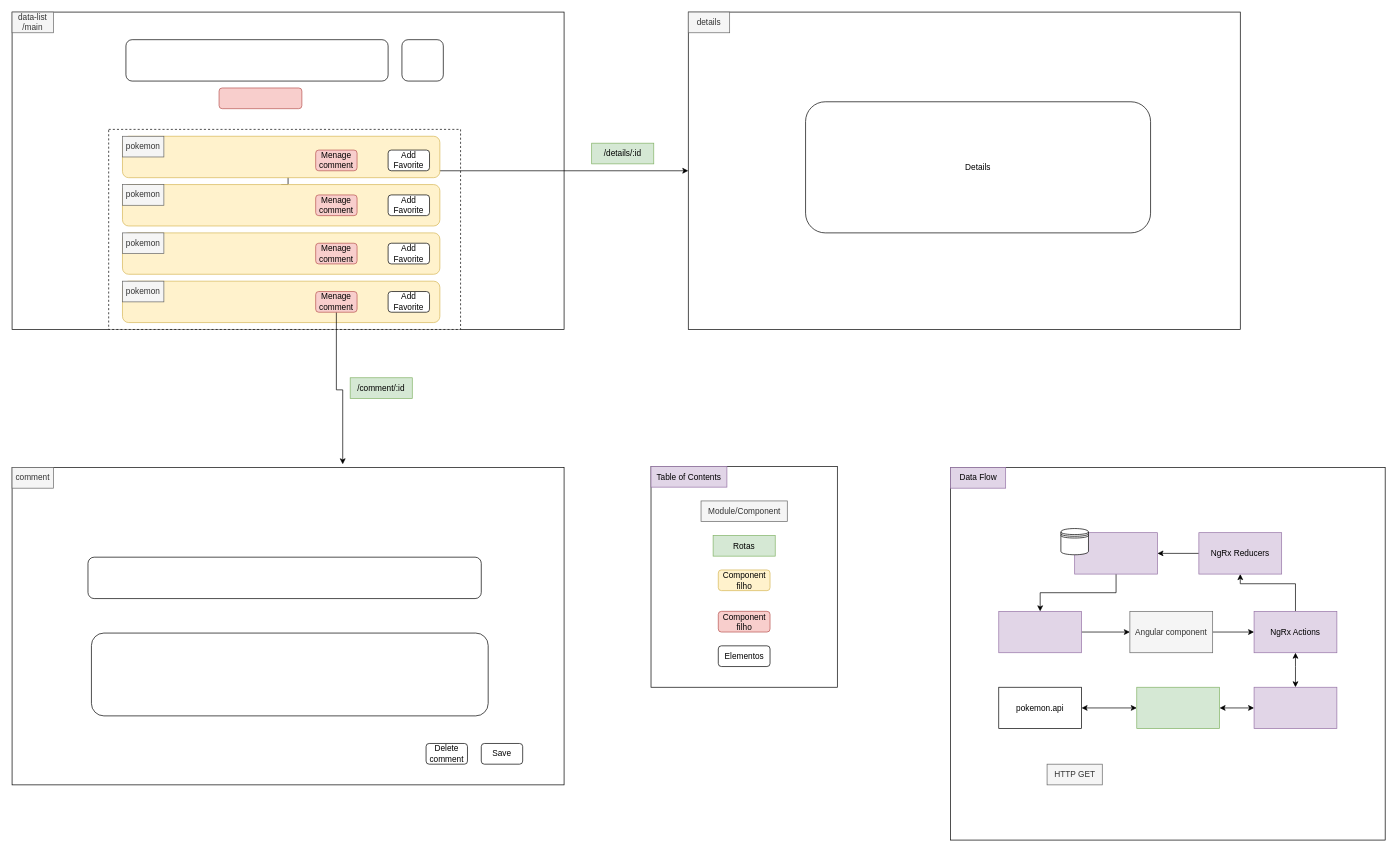
Some shapes in this 1397 by 852 pixel diagram are drawn without their labels. Here are the shapes that lost their labels. From the top down, the box of each, then its label:
(125, 39, 388, 81): Search Pokémon
(401, 39, 443, 81): See my favorites
(218, 87, 302, 109): Pagination Component
(1074, 532, 1157, 574): NgRx Store
(87, 556, 481, 599): Name
(998, 611, 1082, 653): NgRx Selector
(91, 632, 488, 716): Comments
(1136, 687, 1220, 729): main.service
(1253, 687, 1337, 729): NgRx Effects
